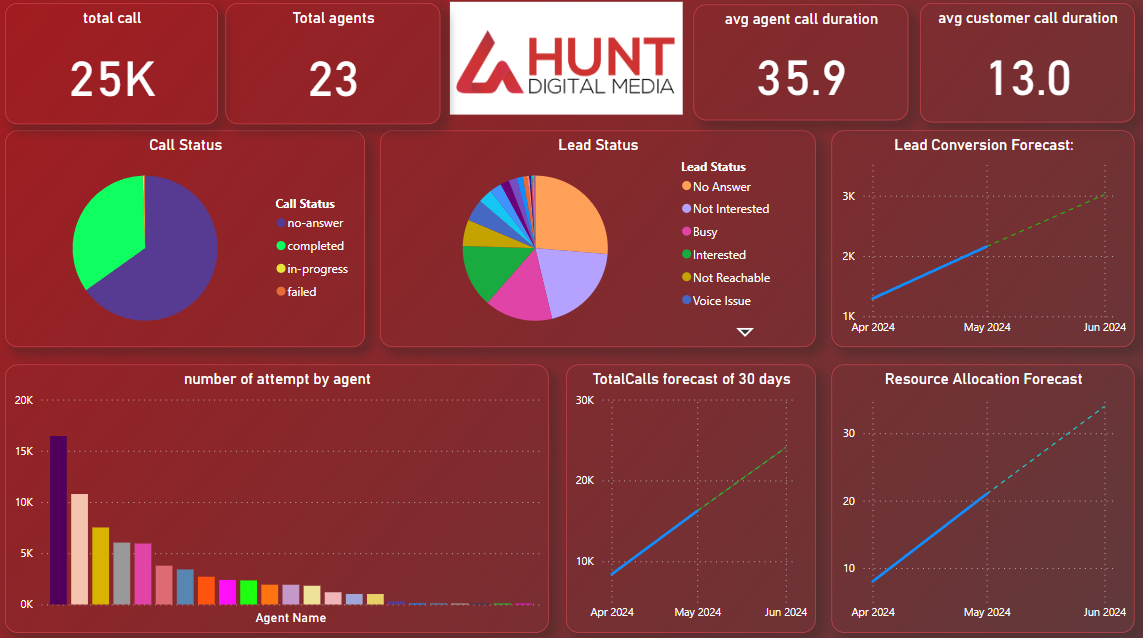

The page's visual inventory and layout, read from the dashboard file:
{"tool":"powerbi","page":{"name":"Page 1","canvas":[1280,720],"ordinal":0},"visuals":[{"type":"image","box":[447.9,0,370.8,135.4],"z":0},{"type":"pieChart","title":"Call Status ","fields":{"Category":["DA.Call Status"],"Y":["DA.Call Status"]},"box":[10.2,149,400,240.8],"z":1000},{"type":"pieChart","title":"Lead Status ","fields":{"Category":["DA.Lead Status"],"Y":["DA.Lead Status"]},"box":[426.5,149,483.7,240.8],"z":2000},{"type":"columnChart","title":"number of attempt by agent","fields":{"Y":["DA.Attempt No"],"Category":["DA.Agent Name"]},"box":[10.2,408.2,604.1,298],"z":3000},{"type":"card","title":"total call","fields":{"Values":["DA.TotalCalls"]},"box":[10.2,6.1,236.7,134.7],"z":4000},{"type":"card","title":"Total agents","fields":{"Values":["DA.UniqueAgentsCount"]},"box":[255.1,6.1,238.8,134.7],"z":5000},{"type":"card","title":"avg agent call duration","fields":{"Values":["DA.AverageagentCallDuration"]},"box":[775.5,8.2,238.8,128.6],"z":6000},{"type":"card","title":"avg customer call duration","fields":{"Values":["DA.AverageCustomerCallDuration"]},"box":[1026.5,6.1,238.8,132.7],"z":7000},{"type":"lineChart","title":"Lead Conversion Forecast:","fields":{"Y":["DA.InterestedLeadsCount"],"Category":["DA.Updated At date.Variation.Date Hierarchy.Year","DA.Updated At date.Variation.Date Hierarchy.Month"]},"box":[928.6,149,336.7,240.8],"z":8000},{"type":"lineChart","title":"TotalCalls forecast of 30 days","fields":{"Category":["DA.Updated At date.Variation.Date Hierarchy.Year","DA.Updated At date.Variation.Date Hierarchy.Month"],"Y":["DA.TotalCalls"]},"box":[632.7,408.2,277.6,298],"z":9000},{"type":"lineChart","title":" Resource Allocation Forecast","fields":{"Category":["DA.Updated At date.Variation.Date Hierarchy.Year","DA.Updated At date.Variation.Date Hierarchy.Month"],"Y":["DA.UniqueAgentsCount"]},"box":[928.6,408.2,336.7,298],"z":10000}]}

Visuals, with their boxes in screenshot pixels (x1, y1, x2, y2), scaled from the page's 1280x720 canvas onto the 1143x638 screenshot:
image: (x1=400, y1=0, x2=731, y2=120)
"Call Status " pieChart: (x1=9, y1=132, x2=366, y2=345)
"Lead Status " pieChart: (x1=381, y1=132, x2=813, y2=345)
"number of attempt by agent" columnChart: (x1=9, y1=362, x2=549, y2=626)
"total call" card: (x1=9, y1=5, x2=220, y2=125)
"Total agents" card: (x1=228, y1=5, x2=441, y2=125)
"avg agent call duration" card: (x1=692, y1=7, x2=906, y2=121)
"avg customer call duration" card: (x1=917, y1=5, x2=1130, y2=123)
"Lead Conversion Forecast:" lineChart: (x1=829, y1=132, x2=1130, y2=345)
"TotalCalls forecast of 30 days" lineChart: (x1=565, y1=362, x2=813, y2=626)
" Resource Allocation Forecast" lineChart: (x1=829, y1=362, x2=1130, y2=626)
